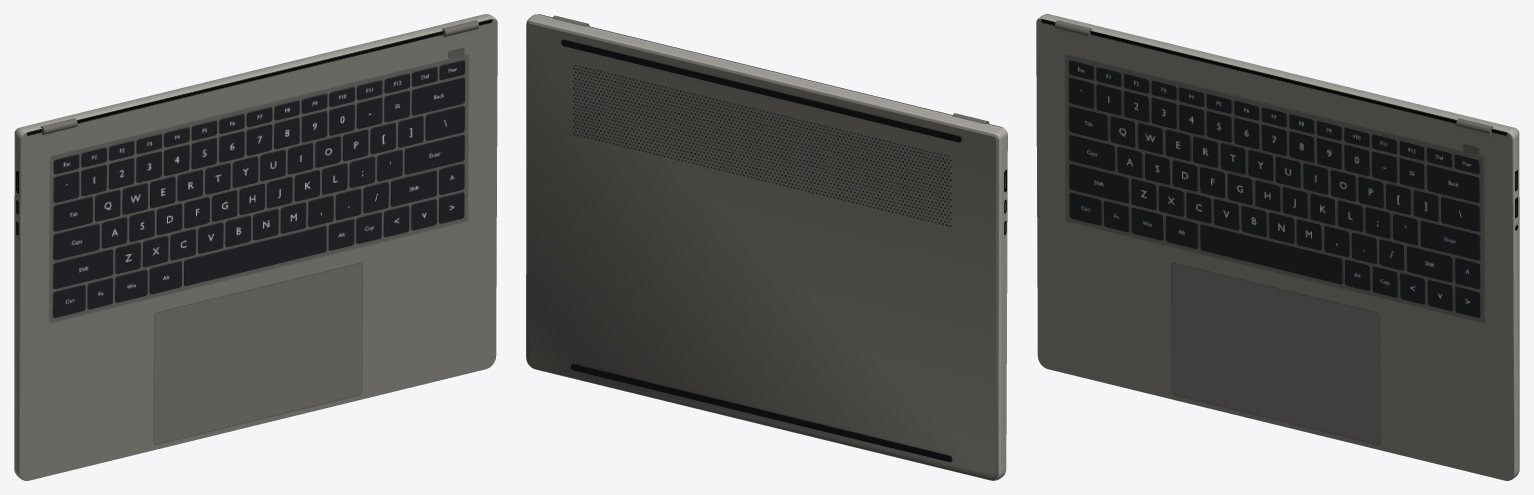
The model's file is body.obj.
The picture shows the model from 3 angles, left to right: view 1: azimuth 30°, elevation 25°; view 2: azimuth 150°, elevation 25°; view 3: azimuth 330°, elevation 25°; orthographic projection.
Parts seen in each view (by area): view 1: deck, keys, base.003, base.004, base.005, hinge; view 2: base, base.006, base.003, base.004; view 3: deck, keys, base.003, base.002, base.005, hinge.
Boxes of the visible parts, bbox=[...] form: deck: bbox=[19, 19, 497, 480]; keys: bbox=[53, 47, 464, 317]; base.003: bbox=[16, 14, 495, 134]; base.004: bbox=[14, 130, 22, 478]; base.005: bbox=[19, 50, 497, 480]; hinge: bbox=[41, 20, 479, 134]; base: bbox=[526, 21, 998, 480]; base.006: bbox=[561, 39, 961, 461]; base.003: bbox=[528, 14, 1005, 136]; base.004: bbox=[996, 130, 1007, 479]; deck: bbox=[1036, 19, 1514, 480]; keys: bbox=[1069, 60, 1480, 317]; base.003: bbox=[1038, 14, 1517, 134]; base.002: bbox=[1511, 130, 1519, 478]; base.005: bbox=[1036, 50, 1514, 480]; hinge: bbox=[1054, 20, 1492, 134].
Bounding box in the file's own units: 316 × 223 × 13.3.
8 materials, 6 textured.
